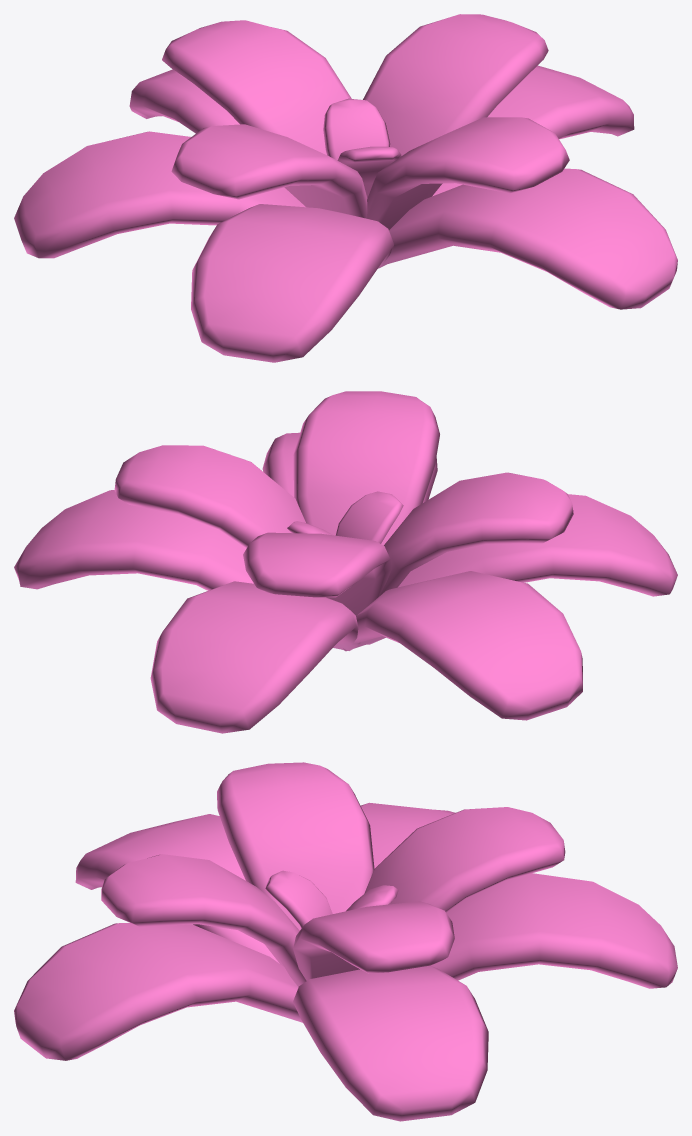
Rendered from pequeno_coral05.fbx.
The picture shows the model from 3 angles, top to bottom: view 1: azimuth 30°, elevation 25°; view 2: azimuth 150°, elevation 25°; view 3: azimuth 270°, elevation 25°; orthographic projection. The views are drawn at different scales.
Parts seen in each view (by area): view 1: Plant.003; view 2: Plant.003; view 3: Plant.003.
Boxes of the visible parts, x1,y1,x2,y2 form: Plant.003: (14, 14, 677, 362); Plant.003: (14, 391, 677, 733); Plant.003: (14, 762, 677, 1121).
Bounding box in the file's own units: 1447 × 404 × 1438.
Materials: 1 (1 with a texture image).
